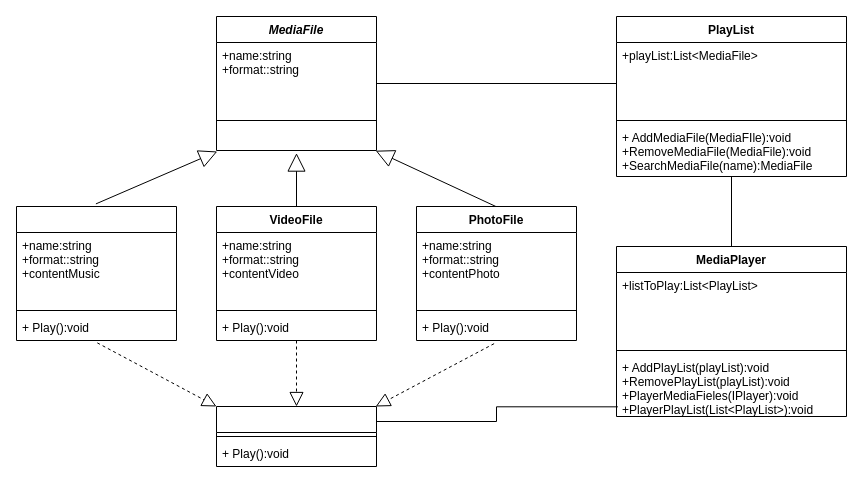
The diagram is 863 pixels wide and 483 high, and some of its shapes have lost their labels. The shapes that lost their labels are listed below. From the top down, each one's box as (x1, y1, x2, y2) in pixels, then its label:
(16, 206, 176, 340): MusicFile
(216, 406, 376, 466): IPlayer
